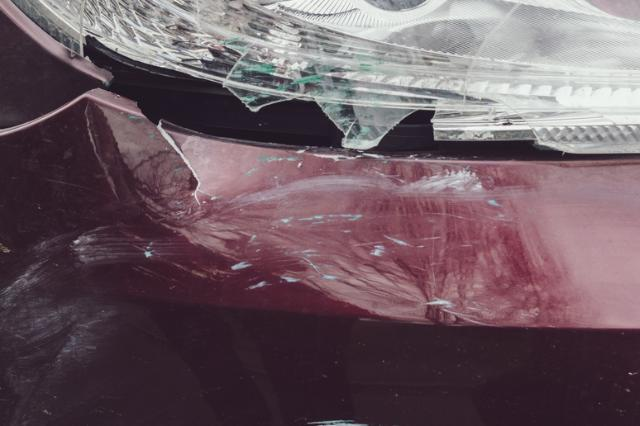Bumper: (0, 87, 640, 426)
Light: (6, 0, 640, 161)
